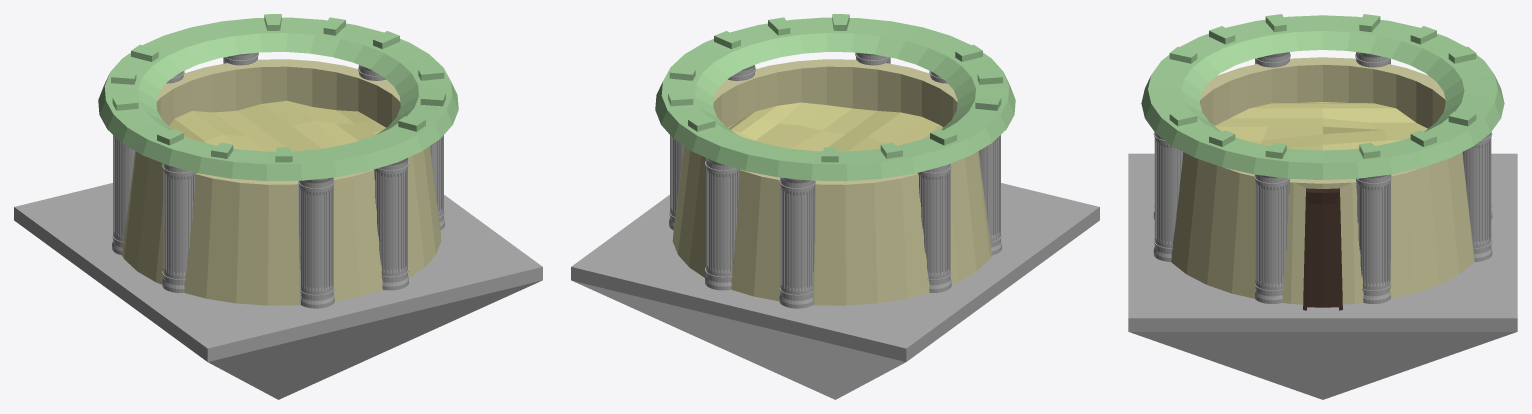
The model's file is Building Granary T2.fbx.
3 views of the same model, side by side, from view 1: azimuth 30°, elevation 25°; view 2: azimuth 150°, elevation 25°; view 3: azimuth 270°, elevation 25° (orthographic).
Parts seen in each view (by area): view 1: Granary T2; view 2: Granary T2; view 3: Granary T2.
Part boxes in pixels (x1,y1,x2,y2): Granary T2: [14, 14, 542, 399]; Granary T2: [571, 14, 1099, 399]; Granary T2: [1128, 14, 1517, 399].
Bounding box in the file's own units: 1599 × 1435 × 1599.
